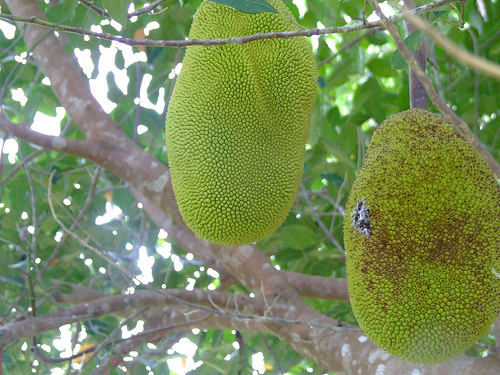jackfruit: (339, 107, 499, 369), (166, 0, 317, 246)
